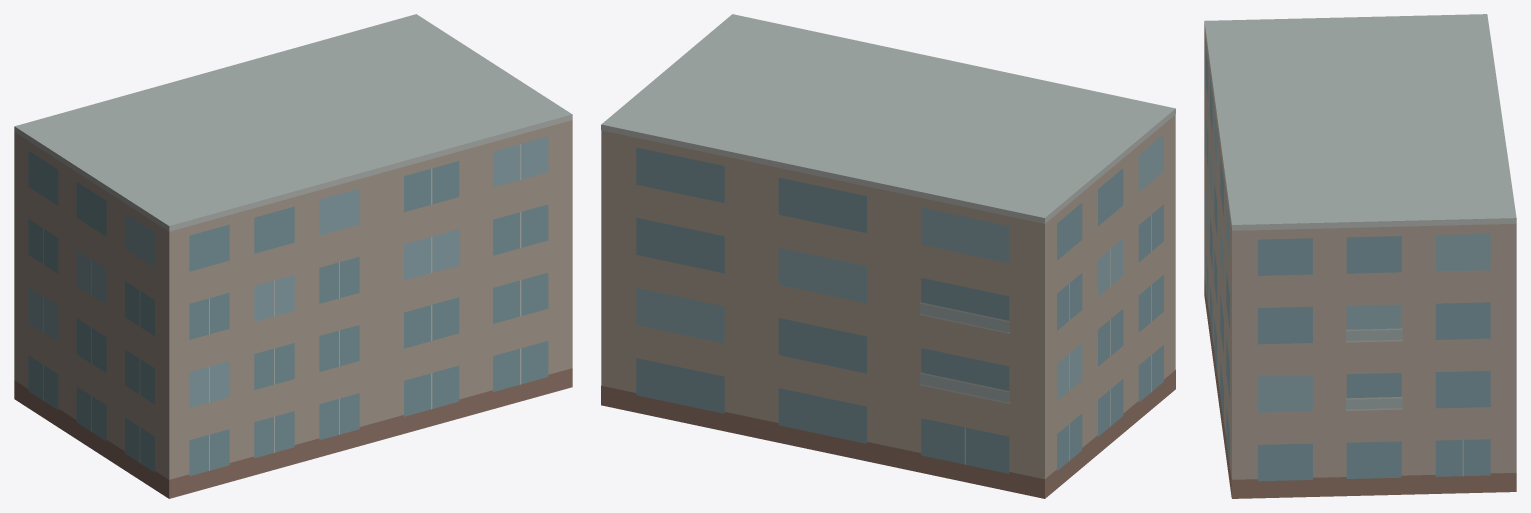
File: survey-upis-32631469.glb
The picture shows the model from 3 angles, left to right: view 1: azimuth 30°, elevation 25°; view 2: azimuth 150°, elevation 25°; view 3: azimuth 270°, elevation 25°; orthographic projection. The views are drawn at different scales.
Parts seen in each view (by area): view 1: survey-upis-32631469.tmp; view 2: survey-upis-32631469.tmp; view 3: survey-upis-32631469.tmp.
Part boxes in pixels (x1,y1,x2,y2): survey-upis-32631469.tmp: (14,14,572,498); survey-upis-32631469.tmp: (601,14,1175,498); survey-upis-32631469.tmp: (1204,14,1516,498).
Bounding box in the file's own units: 19.35 × 11.7 × 12.1.
